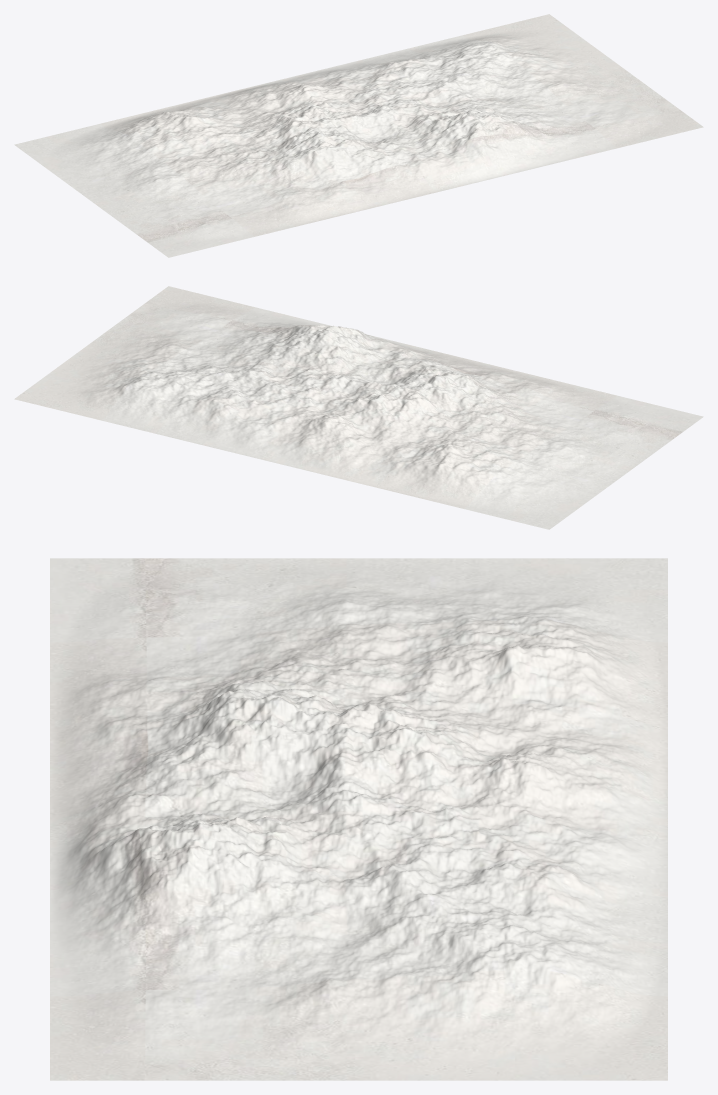
Rendered from uploads_files_2708212_terrain.fbx.
3 renders of one model, top to bottom at view 1: azimuth 30°, elevation 25°; view 2: azimuth 150°, elevation 25°; view 3: azimuth 270°, elevation 25°, orthographic. The views are drawn at different scales.
Visible parts, largest first — view 1: Landscape.003; view 2: Landscape.003; view 3: Landscape.003.
Boxes of the visible parts, x1,y1,x2,y2 form: Landscape.003: (14, 14, 703, 257); Landscape.003: (14, 286, 703, 529); Landscape.003: (50, 558, 667, 1080).
Bounding box in the file's own units: 1000 × 56.71 × 500.
